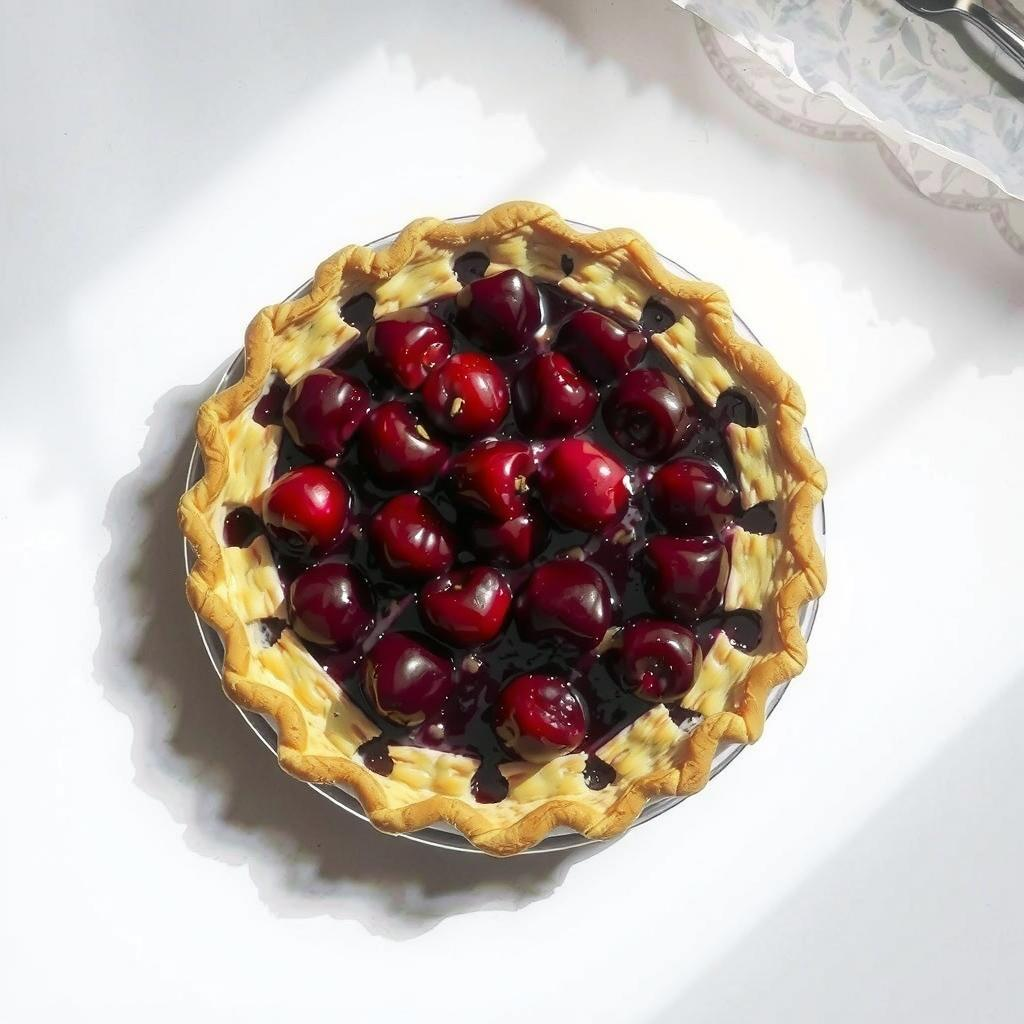pie: (170, 193, 836, 873)
